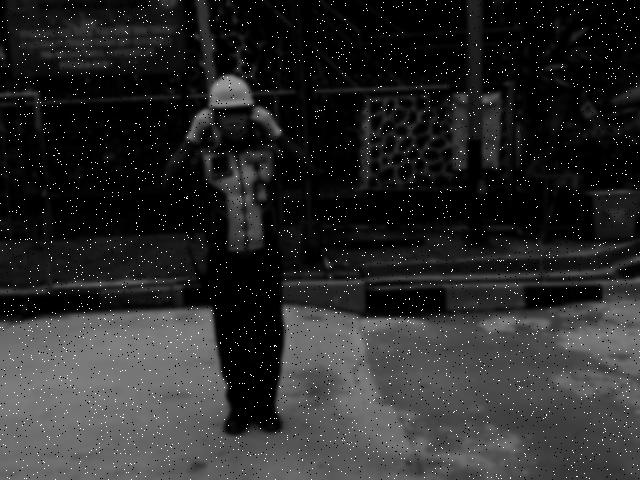gloves: (248, 105, 283, 145), (185, 108, 217, 146)
helmet: (206, 72, 257, 108)
mask: (217, 113, 253, 143)
safety-shoes: (223, 403, 255, 435), (253, 408, 283, 433)
